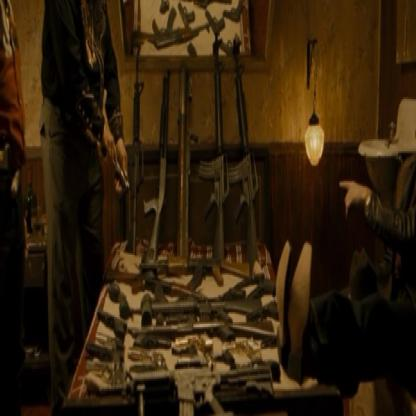Gun: (87, 0, 286, 415)
